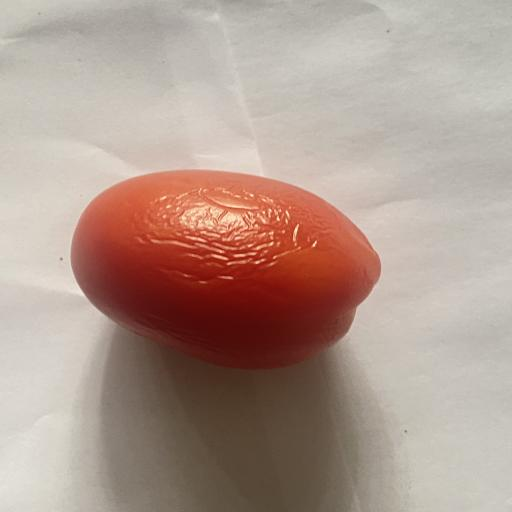spoiled: (71, 170, 380, 369)
